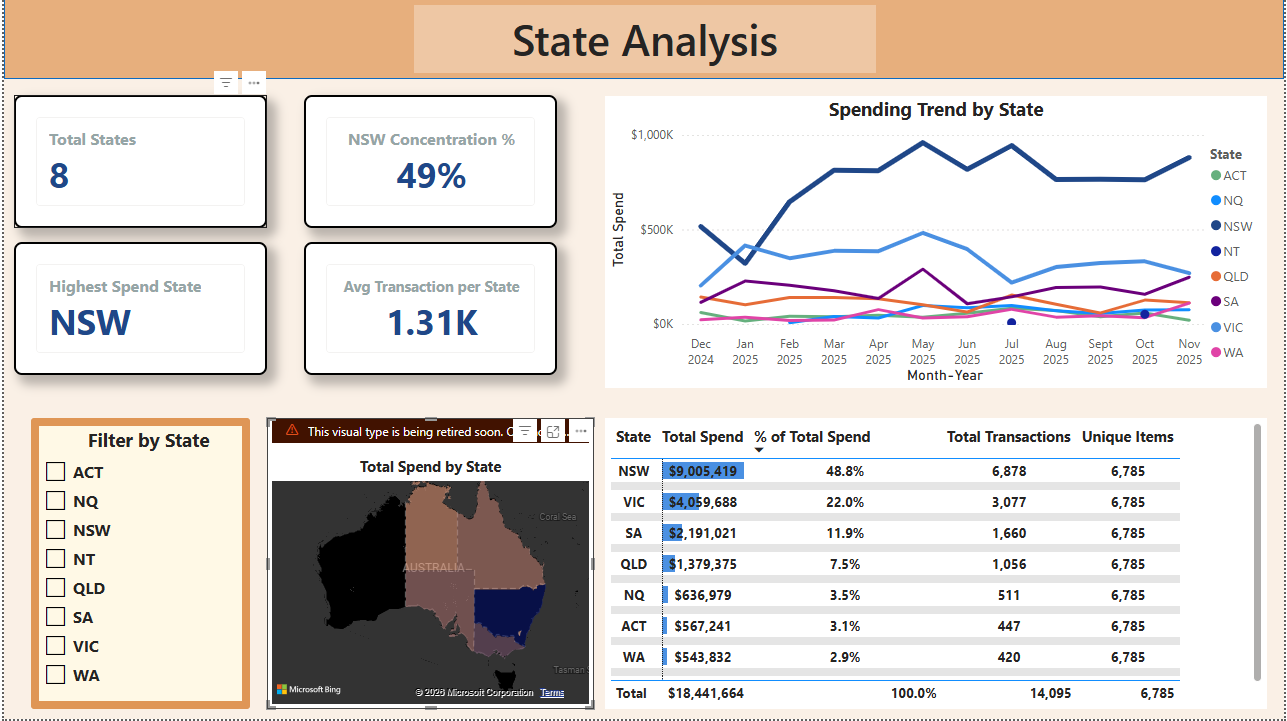

What the dashboard file says about the page in this screenshot:
{"tool":"powerbi","page":{"name":"State Analysis","canvas":[1280,720],"ordinal":1},"visuals":[{"type":"shape","box":[0,0,1280,80],"z":0},{"type":"textbox","box":[409.8,5.8,461.8,67.8],"z":1000},{"type":"cardVisual","title":"States co","fields":{"Data":["_Measures.Total States"]},"box":[10,95.7,252.9,132.9],"z":2000},{"type":"cardVisual","fields":{"Data":["_Measures.Top State"]},"box":[10,242.9,252.9,132.9],"z":3000},{"type":"cardVisual","fields":{"Data":["_Measures.NSW Concentration %"]},"box":[300,95.7,252.9,132.9],"z":4000},{"type":"filledMap","title":"Total Spend by State","fields":{"Category":["Fact_Purchases.State"]},"box":[262.9,418.6,327.1,291.4],"z":5000},{"type":"tableEx","fields":{"Values":["Fact_Purchases.State","_Measures.Total Spend","_Measures.% of Total Spend","_Measures.Total Transactions","_Measures.Unique Items"]},"box":[601.4,418.6,661.4,291.4],"z":6000},{"type":"lineChart","title":"Spending Trend by State","fields":{"Y":["_Measures.Total Spend"],"Series":["Fact_Purchases.State"],"Category":["Dim_Date.Month-Year"]},"box":[601.4,97.1,661.4,291.4],"z":7000},{"type":"listSlicer","title":"Filter by State","fields":{"Values":["Fact_Purchases.State"]},"box":[27.1,418.6,218.6,291.4],"z":8000},{"type":"cardVisual","fields":{"Data":["_Measures.Avg Transaction per State"]},"box":[300,242.9,252.9,132.9],"z":9000}]}

Visuals, with their boxes in screenshot pixels (x1, y1, x2, y2), scaled from the page's 1280x720 canvas onto the 1287x721 screenshot:
shape: box=[0, 0, 1286, 80]
textbox: box=[412, 6, 876, 74]
"States co" cardVisual: box=[10, 96, 264, 229]
cardVisual - _Measures.Top State: box=[10, 243, 264, 376]
cardVisual - _Measures.NSW Concentration %: box=[302, 96, 556, 229]
"Total Spend by State" filledMap: box=[264, 419, 593, 711]
tableEx - Fact_Purchases.State x _Measures.Total Spend: box=[605, 419, 1270, 711]
"Spending Trend by State" lineChart: box=[605, 97, 1270, 389]
"Filter by State" listSlicer: box=[27, 419, 247, 711]
cardVisual - _Measures.Avg Transaction per State: box=[302, 243, 556, 376]
